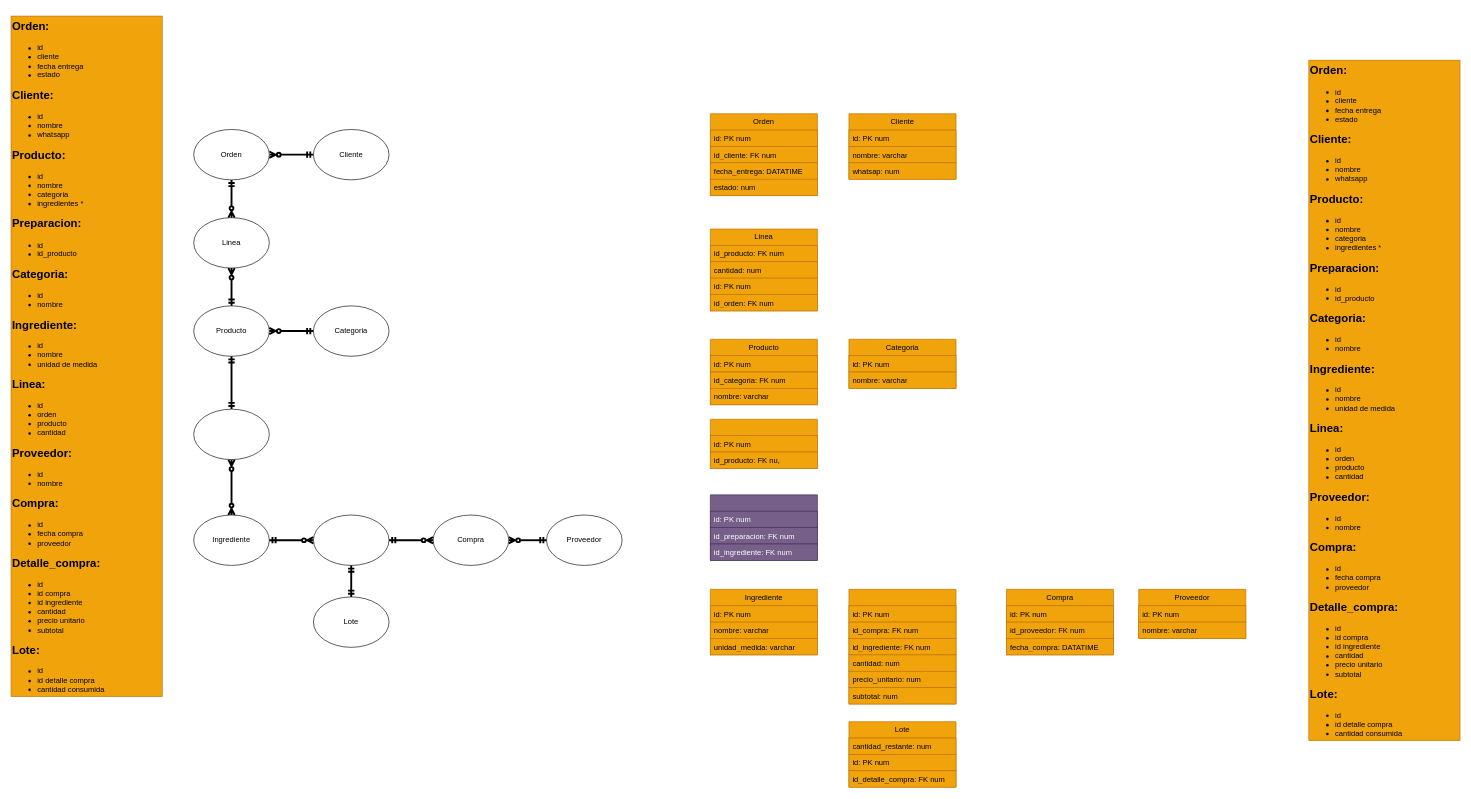
The diagram is 1471 pixels wide and 799 high, and some of its shapes have lost their labels. Each missing label, with the box of its shape:
Detalle compra: (313, 514, 389, 565)
Detalle_compra: (848, 589, 956, 704)
Preparacion: (710, 419, 817, 468)
Preparacion_Ingrediente: (710, 494, 817, 560)
Preparación: (193, 409, 269, 460)
